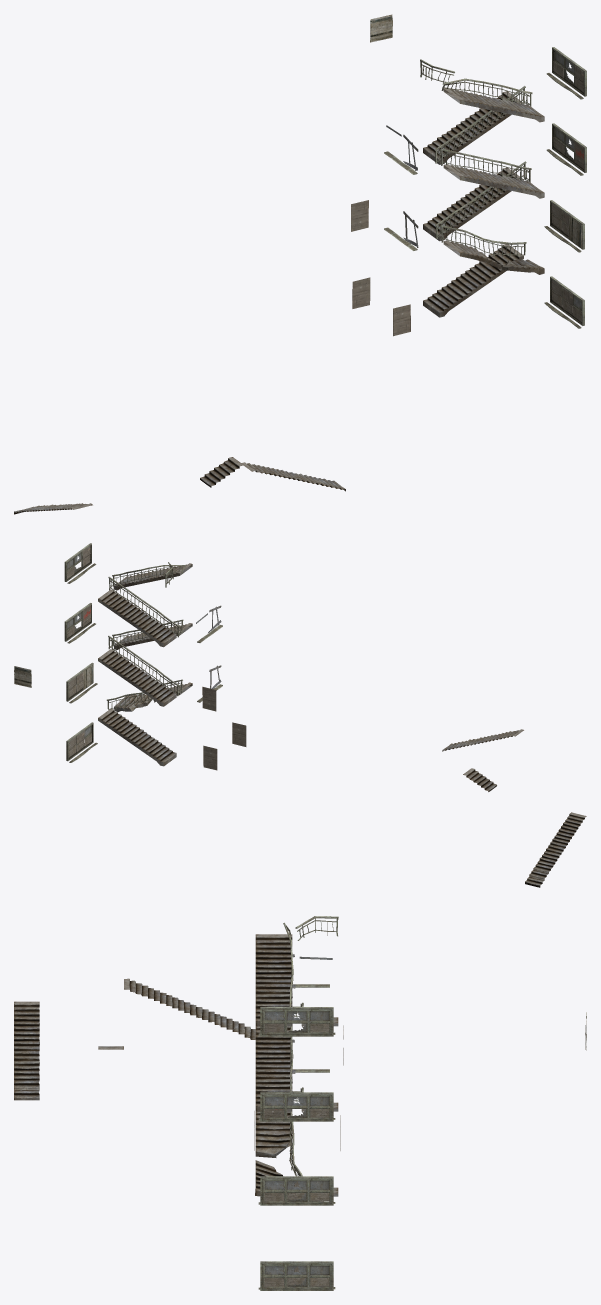
File: Stair Assets.fbx
The picture shows the model from 3 angles, top to bottom: view 1: azimuth 30°, elevation 25°; view 2: azimuth 150°, elevation 25°; view 3: azimuth 270°, elevation 25°; orthographic projection. The views are drawn at different scales.
Visible parts, largest first — view 1: LobbyStairs (×5), Railings_T01 (×3), A2_Stairs, LobbyWindowSet (×2), LobbyStairs_Broken, LobbyWindowSet (1), RailingsBroken_T01, Railings_T02; view 2: LobbyStairs (×5), A2_Stairs, Railings_T01 (×2), LobbyStairs_Broken, LobbyWindowSet, LobbyWindowSet (1); view 3: LobbyWindowSet (×3), LobbyStairs (×2), A2_Stairs, LobbyWindowSet (1), LobbyStairs_Broken.
Part boxes in pixels (bbox=[...]): LobbyStairs (×5): bbox=[423, 88, 544, 317]; Railings_T01 (×3): bbox=[434, 86, 531, 238]; A2_Stairs: bbox=[14, 457, 345, 514]; LobbyWindowSet (×2): bbox=[544, 47, 586, 328]; LobbyStairs_Broken: bbox=[443, 240, 544, 274]; LobbyWindowSet (1): bbox=[546, 123, 586, 175]; RailingsBroken_T01: bbox=[440, 225, 526, 257]; Railings_T02: bbox=[441, 78, 532, 106]; LobbyStairs (×5): bbox=[98, 563, 192, 766]; A2_Stairs: bbox=[442, 729, 586, 887]; Railings_T01 (×2): bbox=[108, 576, 179, 696]; LobbyStairs_Broken: bbox=[114, 682, 192, 711]; LobbyWindowSet: bbox=[64, 543, 96, 583]; LobbyWindowSet (1): bbox=[64, 603, 95, 643]; LobbyWindowSet (×3): bbox=[258, 1007, 335, 1290]; LobbyStairs (×2): bbox=[255, 934, 292, 1111]; A2_Stairs: bbox=[14, 978, 255, 1100]; LobbyWindowSet (1): bbox=[258, 1092, 335, 1121]; LobbyStairs_Broken: bbox=[255, 1111, 292, 1196].
Size of the model in its own units: 40.31 by 21.53 by 31.19.
